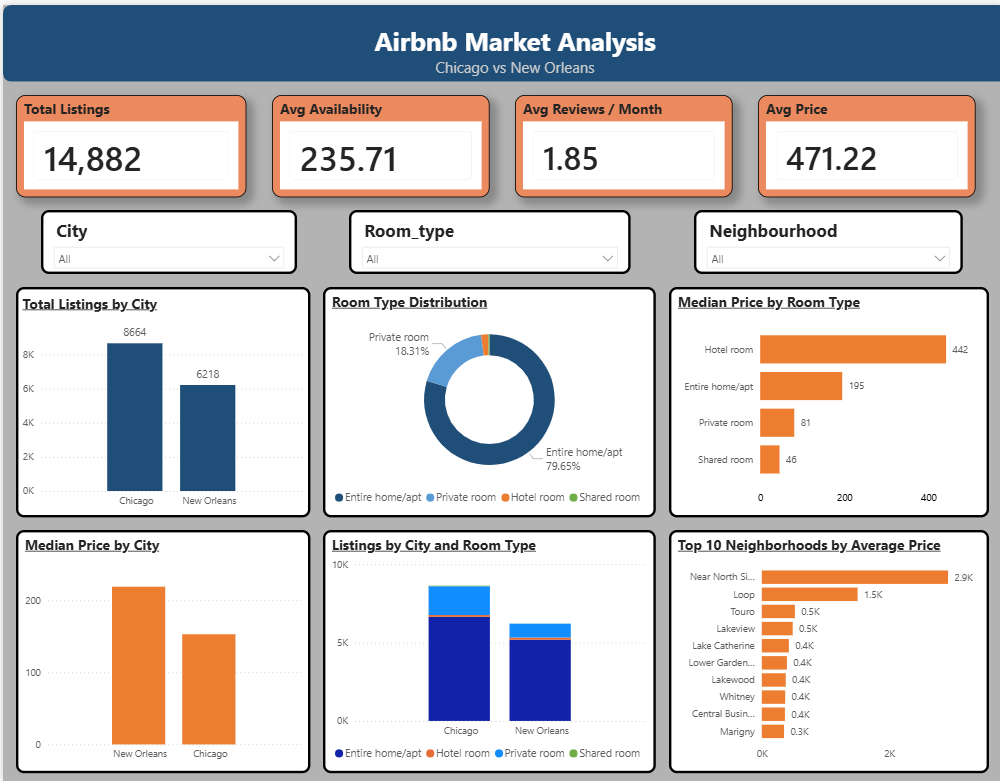

Layout of this report page (visuals, bound fields, positions):
{"tool":"powerbi","page":{"name":"Market Overview","canvas":[1250,970],"ordinal":0},"visuals":[{"type":"cardVisual","title":"Total Listings","fields":{"Data":["Count(Airbnb_Master.id)"]},"box":[16,112,288,128],"z":0},{"type":"cardVisual","title":"Avg Price","fields":{"Data":["Avg(Airbnb_Master.price)"]},"box":[944,112,272,128],"z":1000},{"type":"cardVisual","title":"Avg Reviews / Month","fields":{"Data":["Avg(Airbnb_Master.reviews_per_month)"]},"box":[640,112,272,128],"z":2000},{"type":"cardVisual","title":"Avg Availability","fields":{"Data":["Avg(Airbnb_Master.availability_365)"]},"box":[336,112,272,128],"z":3000},{"type":"clusteredColumnChart","title":"Total Listings by City","fields":{"Category":["Airbnb_Master.City"],"Y":["Count(Airbnb_Master.id)"]},"box":[16,352,368,288],"z":4000},{"type":"donutChart","title":"Room Type Distribution","fields":{"Category":["Airbnb_Master.room_type"],"Y":["CountNonNull(Airbnb_Master.id)"]},"box":[400,352,416,288],"z":5000},{"type":"clusteredBarChart","title":"Median Price by Room Type","fields":{"Category":["Airbnb_Master.room_type"],"Y":["Airbnb_Master.Median Price"]},"box":[832,352,400,288],"z":6000},{"type":"clusteredColumnChart","title":"Median Price by City","fields":{"Y":["Airbnb_Master.Median Price"],"Category":["Airbnb_Master.City"]},"box":[16,656,368,304],"z":7000},{"type":"columnChart","title":"Listings by City and Room Type","fields":{"Category":["Airbnb_Master.City"],"Series":["Airbnb_Master.room_type"],"Y":["CountNonNull(Airbnb_Master.id)"]},"box":[400,656,416,304],"z":8000},{"type":"clusteredBarChart","title":"Top 10 Neighborhoods by Average Price","fields":{"Category":["Airbnb_Master.neighbourhood"],"Y":["Avg(Airbnb_Master.price)"]},"box":[832,656,400,304],"z":9000},{"type":"shape","box":[0,0,1280,96],"z":10000},{"type":"textbox","box":[0,0,1280,96],"z":11000},{"type":"slicer","fields":{"Values":["Airbnb_Master.room_type"]},"box":[432,256,352,80],"z":11001},{"type":"slicer","fields":{"Values":["Airbnb_Master.City"]},"box":[48,256,320,80],"z":11002},{"type":"slicer","fields":{"Values":["Airbnb_Master.neighbourhood"]},"box":[864,256,336,80],"z":11003}]}

Visuals, with their boxes in screenshot pixels (x1, y1, x2, y2), scaled from the page's 1250x970 canvas onto the 1000x781 screenshot:
"Total Listings" cardVisual: (13, 90, 243, 193)
"Avg Price" cardVisual: (755, 90, 973, 193)
"Avg Reviews / Month" cardVisual: (512, 90, 730, 193)
"Avg Availability" cardVisual: (269, 90, 486, 193)
"Total Listings by City" clusteredColumnChart: (13, 283, 307, 515)
"Room Type Distribution" donutChart: (320, 283, 653, 515)
"Median Price by Room Type" clusteredBarChart: (666, 283, 986, 515)
"Median Price by City" clusteredColumnChart: (13, 528, 307, 773)
"Listings by City and Room Type" columnChart: (320, 528, 653, 773)
"Top 10 Neighborhoods by Average Price" clusteredBarChart: (666, 528, 986, 773)
shape: (0, 0, 999, 77)
textbox: (0, 0, 999, 77)
slicer - Airbnb_Master.room_type: (346, 206, 627, 271)
slicer - Airbnb_Master.City: (38, 206, 294, 271)
slicer - Airbnb_Master.neighbourhood: (691, 206, 960, 271)
